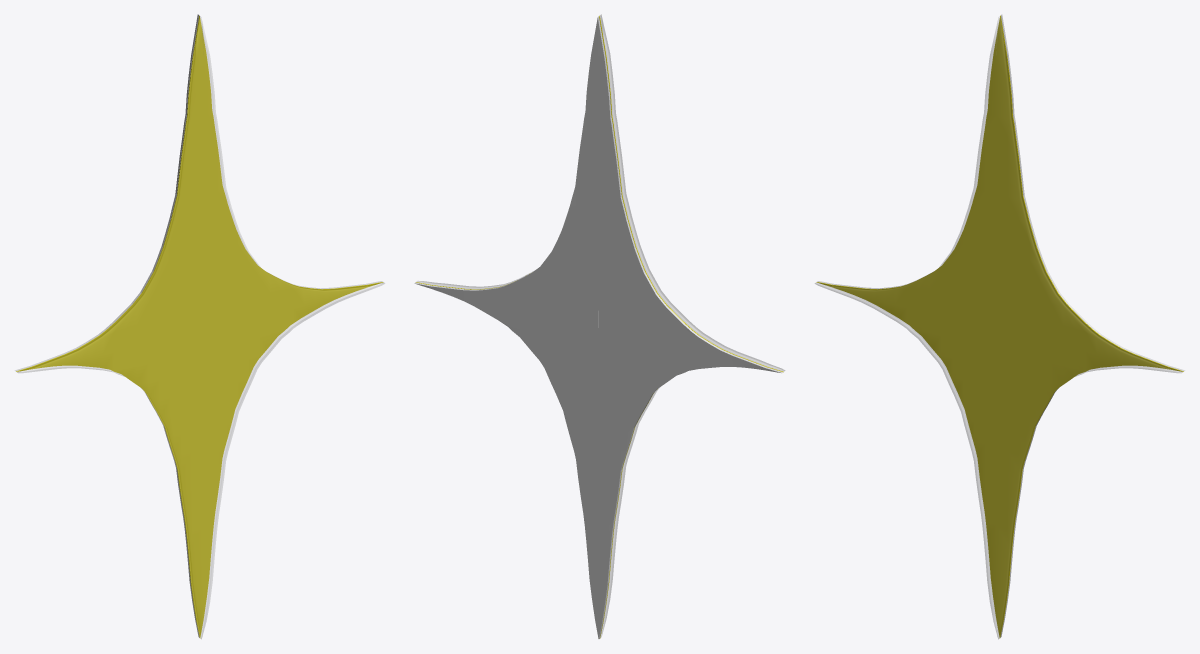
The model's file is kira.glb.
The picture shows the model from 3 angles, left to right: view 1: azimuth 30°, elevation 25°; view 2: azimuth 150°, elevation 25°; view 3: azimuth 330°, elevation 25°; orthographic projection.
Visible parts, largest first — view 1: 平面, 平面.002, 平面.001; view 2: 平面.001, 平面, 平面.002; view 3: 平面, 平面.002, 平面.001.
Part boxes in pixels (<box>): 平面: <box>17,16,384,639</box>; 平面.002: <box>16,15,383,638</box>; 平面.001: <box>14,14,382,637</box>; 平面.001: <box>414,16,782,638</box>; 平面: <box>417,14,784,637</box>; 平面.002: <box>416,16,783,638</box>; 平面: <box>815,16,1182,639</box>; 平面.002: <box>816,15,1183,638</box>; 平面.001: <box>817,14,1185,637</box>.
Bounding box in the file's own units: 2.45 × 3.97 × 0.0702.
